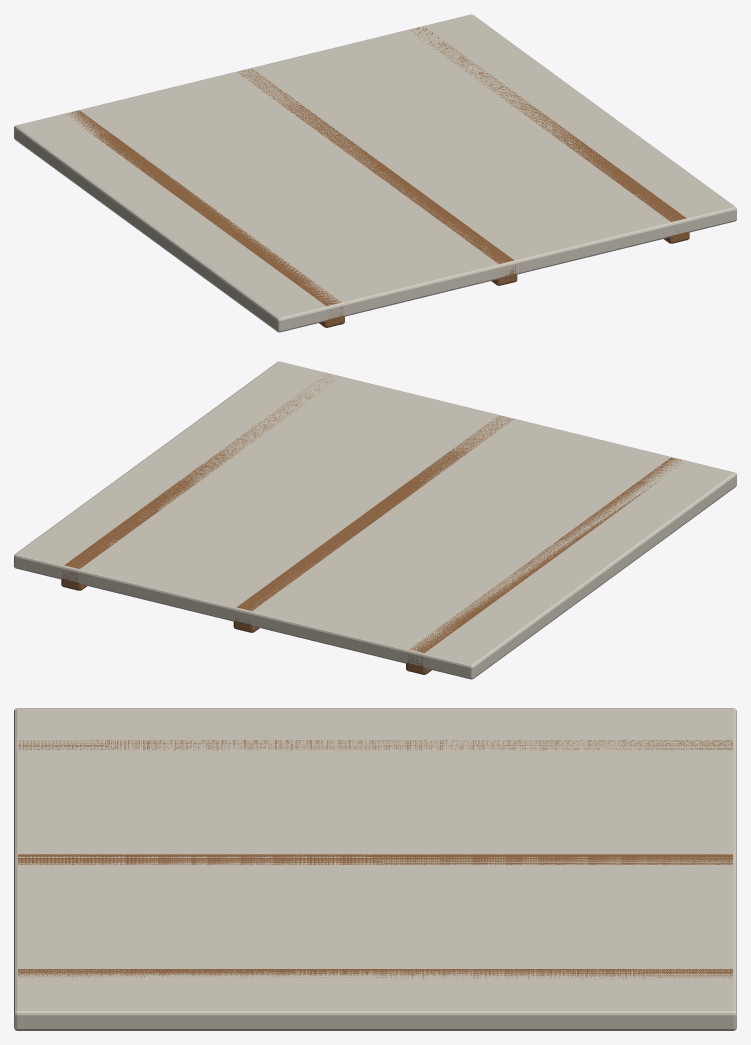
File: ceiling_4x4.glb
3 renders of one model, top to bottom at view 1: azimuth 30°, elevation 25°; view 2: azimuth 150°, elevation 25°; view 3: azimuth 270°, elevation 25°, orthographic. The views are drawn at different scales.
Visible parts, largest first — view 1: ceiling_panel, ceiling_beam_center, ceiling_beam_left, ceiling_beam_right; view 2: ceiling_panel, ceiling_beam_center, ceiling_beam_left, ceiling_beam_right; view 3: ceiling_panel, ceiling_beam_center, ceiling_beam_right, ceiling_beam_left.
Part boxes in pixels (<box>): ceiling_panel: <box>14,14,736,332</box>; ceiling_beam_center: <box>237,68,517,285</box>; ceiling_beam_left: <box>66,110,344,327</box>; ceiling_beam_right: <box>411,27,689,243</box>; ceiling_panel: <box>14,361,736,679</box>; ceiling_beam_center: <box>233,416,513,632</box>; ceiling_beam_left: <box>406,457,682,674</box>; ceiling_beam_right: <box>61,374,336,590</box>; ceiling_panel: <box>14,708,736,1030</box>; ceiling_beam_center: <box>18,854,732,864</box>; ceiling_beam_right: <box>18,969,732,979</box>; ceiling_beam_left: <box>18,740,732,750</box>.
Bounding box in the file's own units: 4 × 0.18 × 4.
